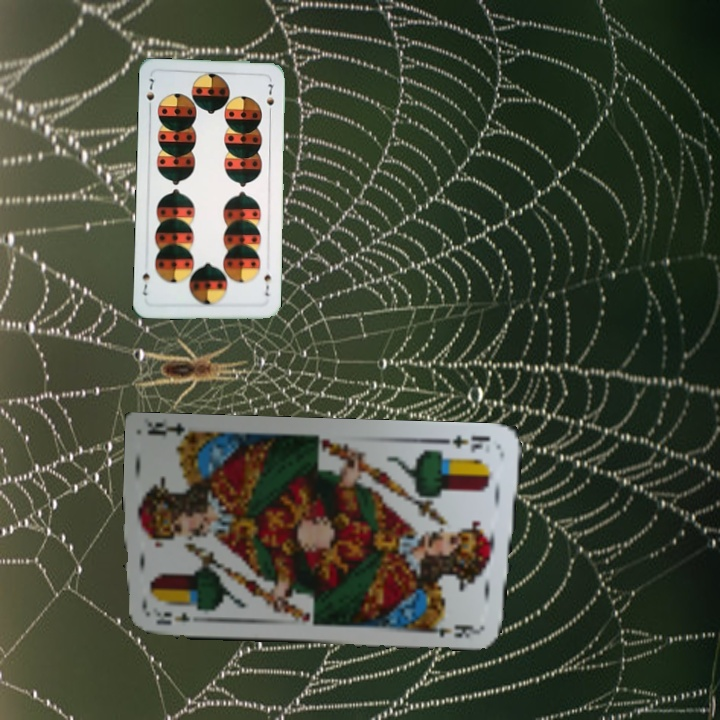EK: (439, 431, 492, 455), (151, 605, 193, 628)
S7: (142, 74, 157, 113), (260, 270, 273, 299)
